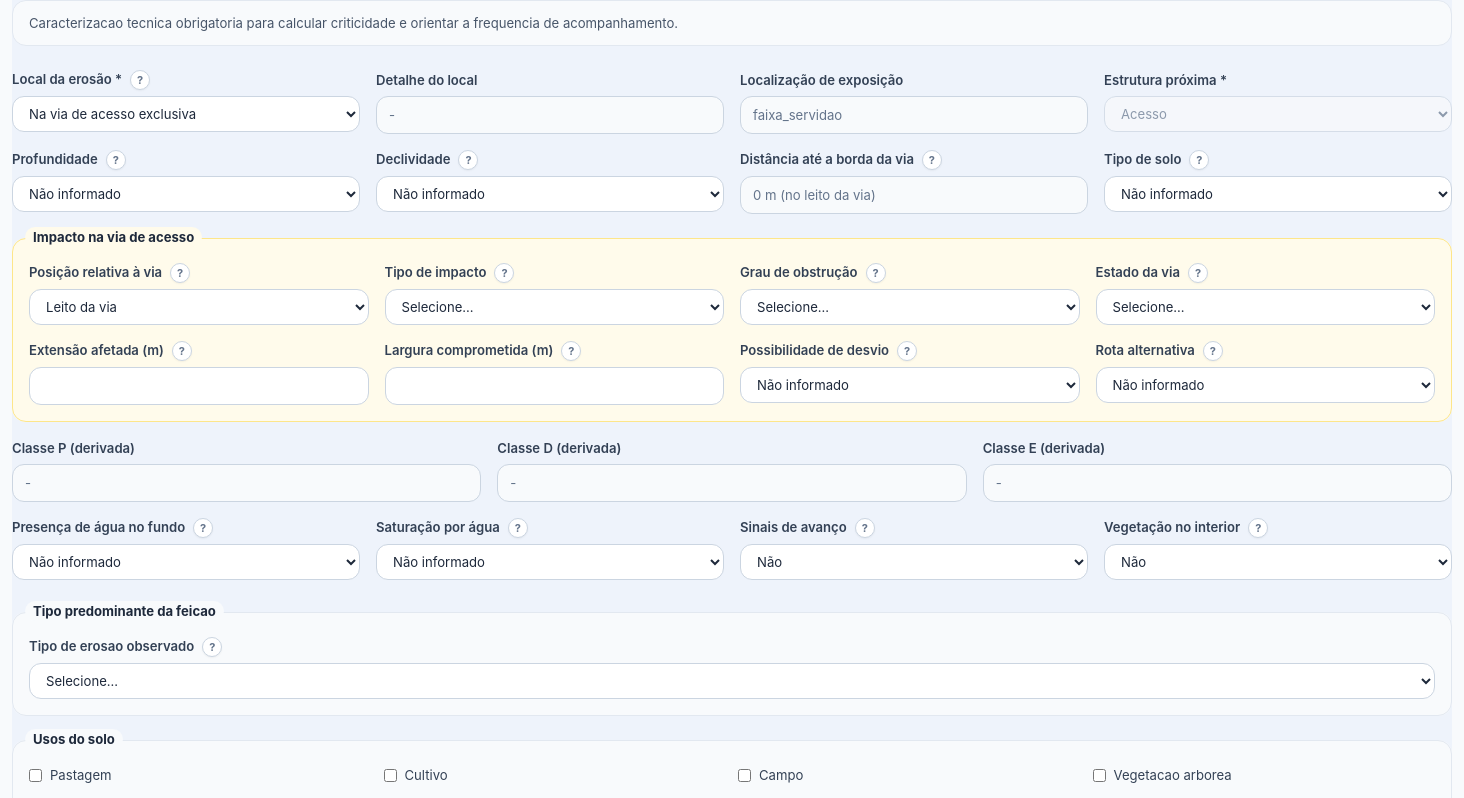
Scenario: ErosionTechnicalFields › bloqueia a distancia no leito da via e revela a orientacao apenas sob demanda
Expected: the 3rd field is disabled, [740,176,1088,214]
Expected: the text "Erosao no leito da via: distancia zero." is not shown
Click the button "?" next to "Distância até a borda da via" at (932, 160), box [922,150,942,170]
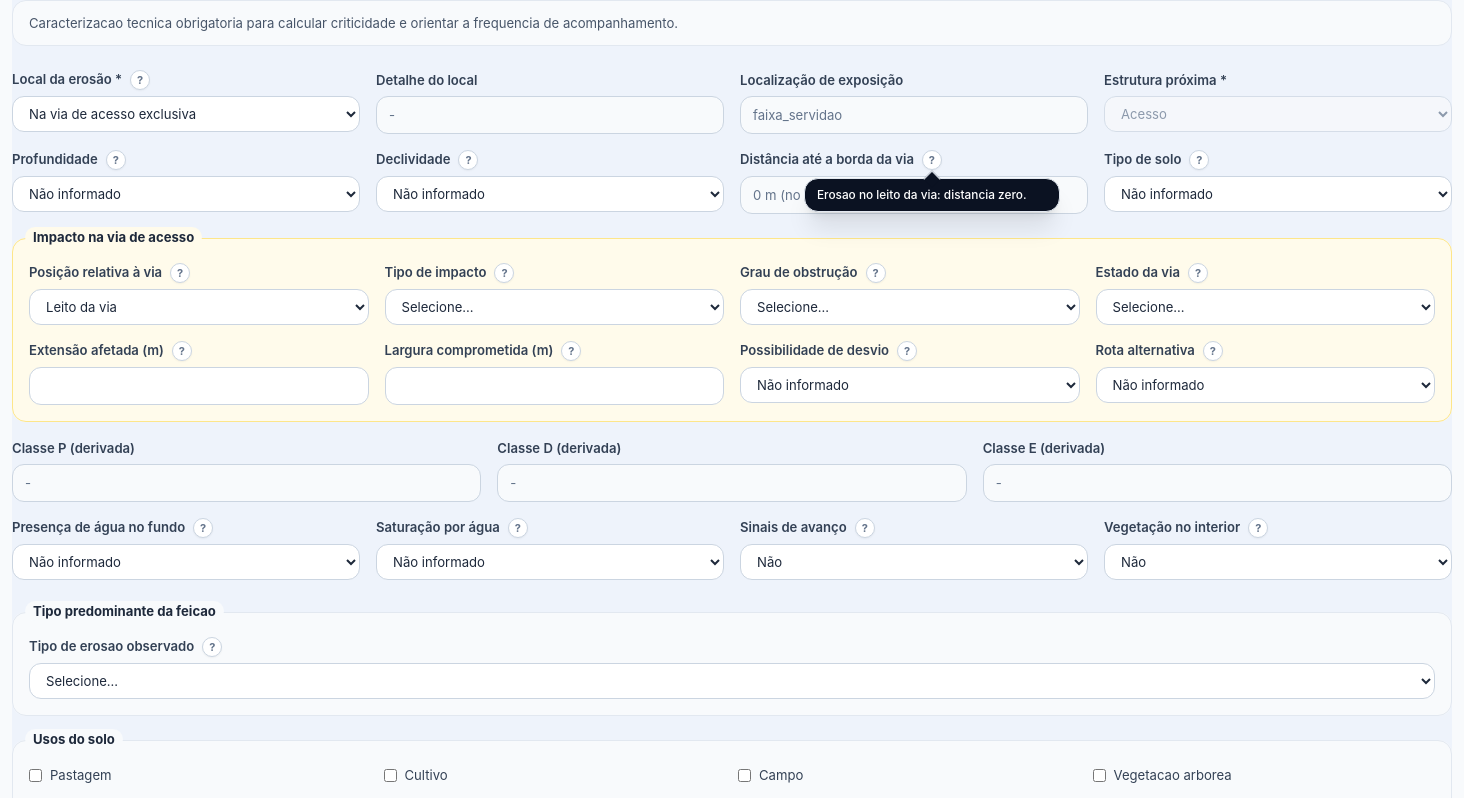
Expected: the text "Erosao no leito da via: distancia zero." is shown, [817,187,1047,203]
